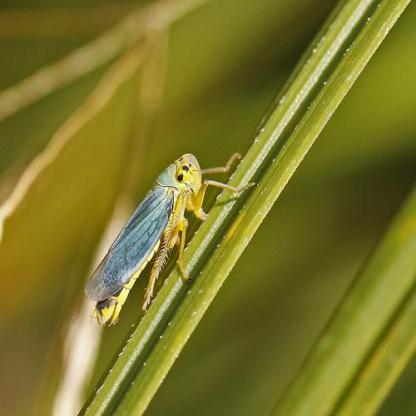Green-Leafhopper: (82, 147, 256, 330)
